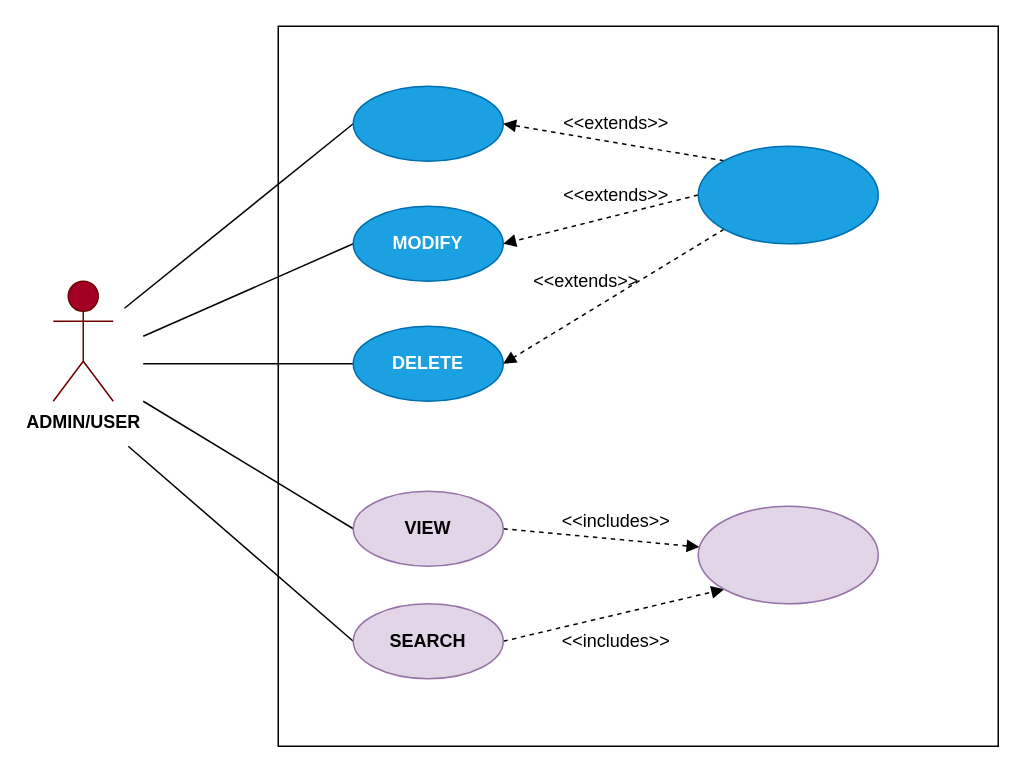
Image size: 1025x773. Some labels were removed from this diagram. Here are the shapes that lost their labels. From the top down, the centre of each, then its label:
the point at 427,123: ADD
the point at 787,194: SAVE TO FILE
the point at 787,554: READ FROM FILE
